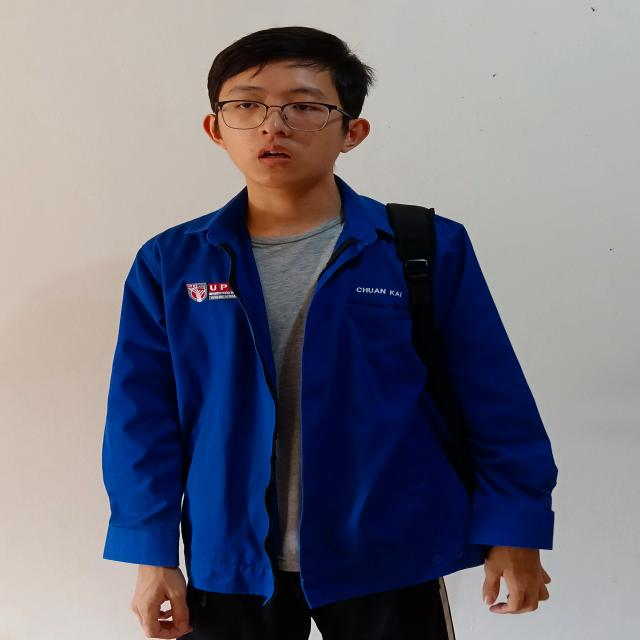person_with_labcoat: (103, 27, 557, 640)
